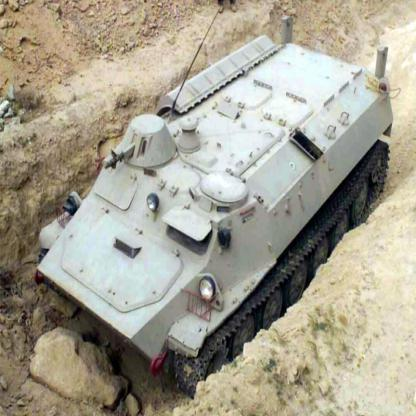MIL_IFV: (30, 18, 397, 398)
